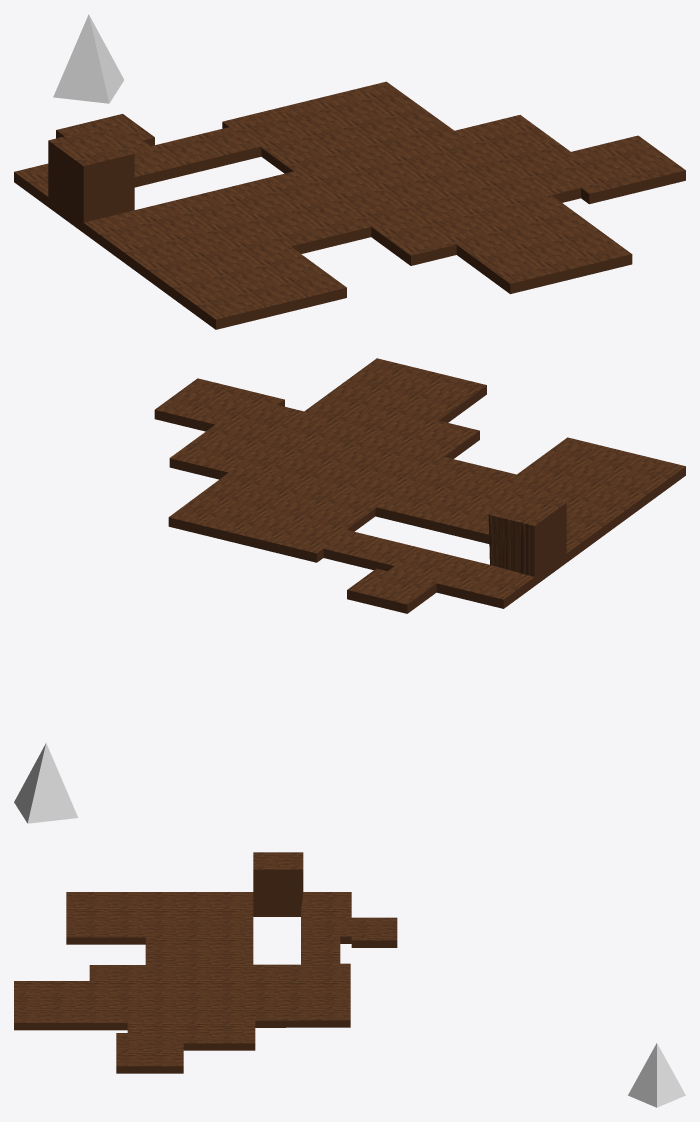
File: SM_floorandceiling_clean.fbx
The picture shows the model from 3 angles, top to bottom: view 1: azimuth 30°, elevation 25°; view 2: azimuth 150°, elevation 25°; view 3: azimuth 270°, elevation 25°; orthographic projection. The views are drawn at different scales.
Parts seen in each view (by area): view 1: Middle_floorandroof_clean, SM_referemcepoint; view 2: Middle_floorandroof_clean, SM_referemcepoint; view 3: Middle_floorandroof_clean, SM_referemcepoint.
Part boxes in pixels (bbox=[...]): Middle_floorandroof_clean: bbox=[14, 81, 685, 329]; SM_referemcepoint: bbox=[53, 14, 123, 103]; Middle_floorandroof_clean: bbox=[154, 358, 685, 613]; SM_referemcepoint: bbox=[14, 743, 78, 823]; Middle_floorandroof_clean: bbox=[14, 852, 397, 1073]; SM_referemcepoint: bbox=[628, 1043, 685, 1107].
Size of the model in its own units: 2432 by 3962 by 931.
Materials: 2 (2 with a texture image).
